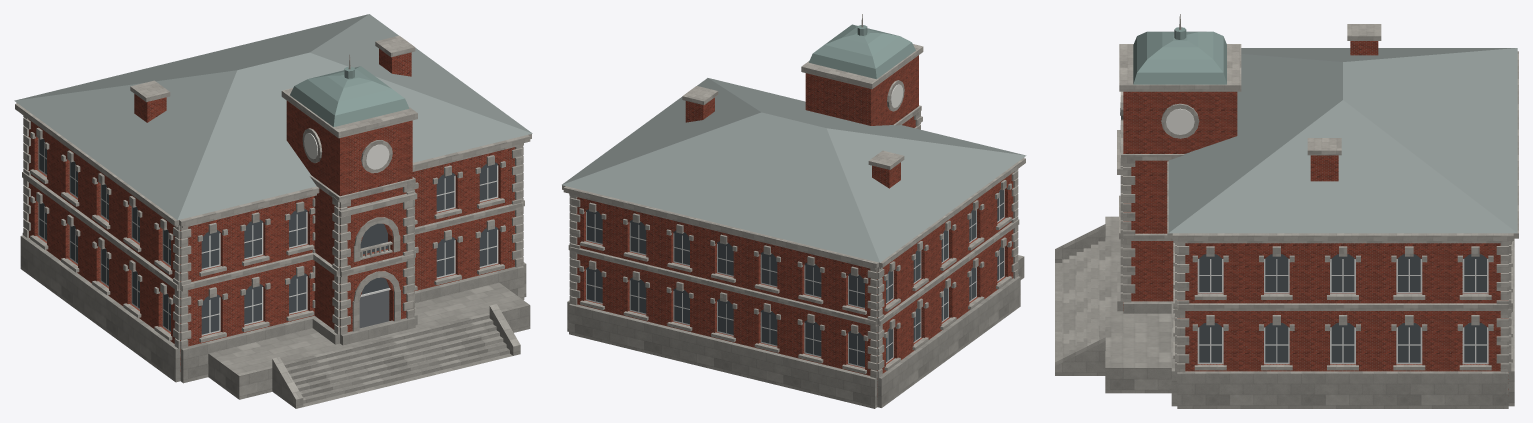
3 renders of one model, left to right at view 1: azimuth 30°, elevation 25°; view 2: azimuth 150°, elevation 25°; view 3: azimuth 270°, elevation 25°, orthographic. The views are drawn at different scales.
Visible parts, largest first — view 1: museum__roof, museum__brick, museum__base, museum__trim, museum__glass, museum__dome, museum__frame, museum__door, museum__dial; view 2: museum__roof, museum__brick, museum__trim, museum__base, museum__glass, museum__dome, museum__frame; view 3: museum__roof, museum__brick, museum__base, museum__trim, museum__glass, museum__dome, museum__frame, museum__dial.
Part boxes in pixels (x1,y1,x2,y2): museum__roof: (14,14,532,220); museum__brick: (28,49,515,371); museum__base: (20,233,530,408); museum__trim: (15,35,531,348); museum__glass: (39,139,497,334); museum__dome: (290,66,409,126); museum__frame: (38,138,498,335); museum__door: (359,290,389,328); museum__dial: (304,133,389,169); museum__roof: (562,78,1026,262); museum__brick: (576,55,1013,396); museum__trim: (562,14,1025,378); museum__base: (567,255,1024,408); museum__glass: (586,190,1003,366); museum__dome: (809,24,915,79); museum__frame: (586,189,1004,367); museum__roof: (1168,48,1517,233); museum__brick: (1123,41,1508,389); museum__base: (1055,216,1514,408); museum__trim: (1117,14,1518,372); museum__glass: (1198,254,1487,362); museum__dome: (1133,27,1226,84); museum__frame: (1197,259,1488,363); museum__dial: (1120,91,1194,134).
Bounding box in the file's own units: 22.12 × 16.8 × 23.27.
Materials: 9 (3 with a texture image).
